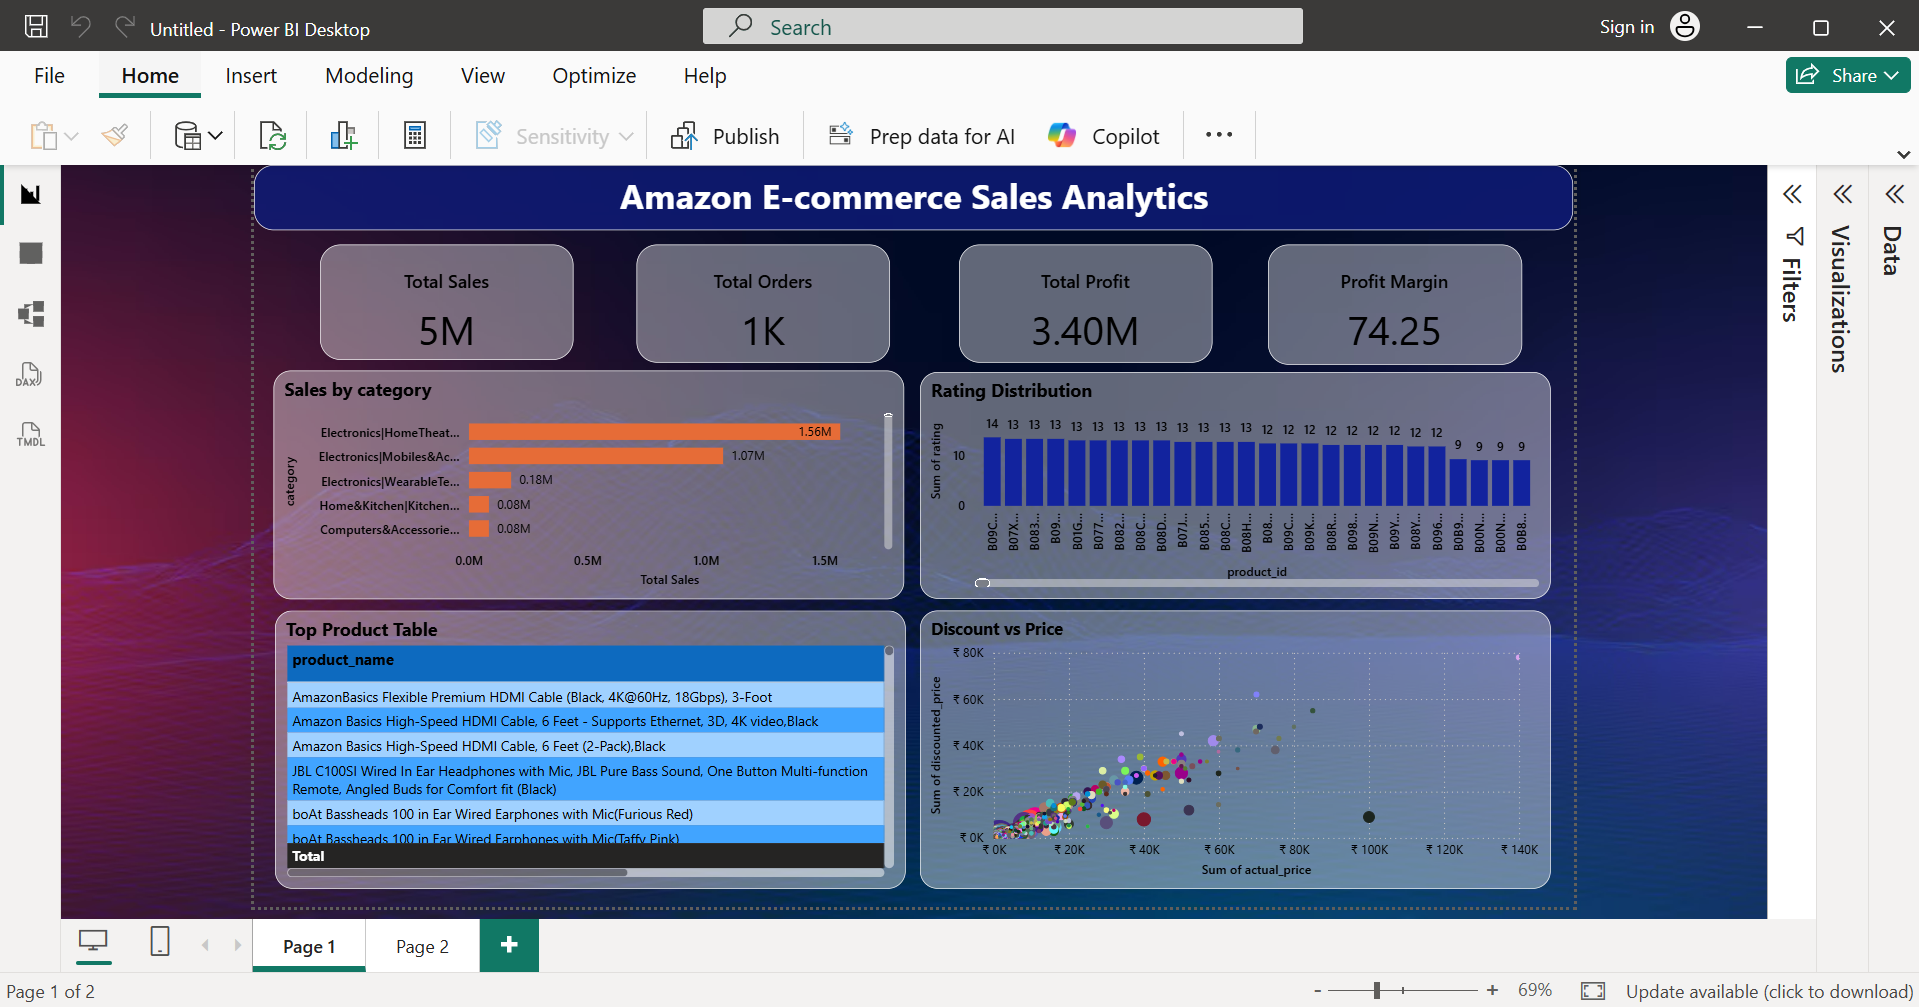

The page's visual inventory and layout, read from the dashboard file:
{"tool":"powerbi","page":{"name":"Page 1","canvas":[1280,720],"ordinal":0},"visuals":[{"type":"textbox","title":"Amazon E-commerce Sales Analytics","box":[0,0,1280,63.3],"z":0},{"type":"cardVisual","fields":{"Data":["Amazon.Total Profit"]},"box":[683.8,77.3,246.1,115],"z":1000},{"type":"clusteredBarChart","title":"Sales by category","fields":{"Category":["Amazon.category"],"Y":["Amazon.Total Sales"]},"box":[19.4,199.2,612.1,221.8],"z":2000},{"type":"clusteredColumnChart","title":"Rating Distribution","fields":{"Y":["Sum(Amazon.rating)"],"Category":["Amazon.product_id"]},"box":[646.1,200.8,612.1,220.2],"z":3000},{"type":"tableEx","title":"Top Product Table","fields":{"Values":["Amazon.product_name","Sum(Amazon.discounted_price)","Sum(Amazon.rating)","Sum(Amazon.rating_count)"]},"box":[20,431.7,611.7,270],"z":4000},{"type":"scatterChart","title":"Discount vs Price","fields":{"X":["Sum(Amazon.actual_price)"],"Y":["Sum(Amazon.discounted_price)"],"Size":["Sum(Amazon.rating_count)"],"Category":["Amazon.product_name"]},"box":[646.7,431.7,611.7,270],"z":5000},{"type":"cardVisual","fields":{"Data":["Amazon.Profit Margin"]},"box":[983.3,76.7,246.7,116.7],"z":7000},{"type":"cardVisual","fields":{"Data":["Amazon.Total Orders"]},"box":[371.3,77.3,246.1,115],"z":8000},{"type":"cardVisual","fields":{"Data":["Amazon.Total Sales"]},"box":[63.6,77.3,246.1,111.7],"z":9000}]}

Visuals, with their boxes in screenshot pixels (x1, y1, x2, y2):
"Amazon E-commerce Sales Analytics" textbox: l=25, t=0, r=1795, b=38
cardVisual - Amazon.Total Profit: l=970, t=57, r=1311, b=216
"Sales by category" clusteredBarChart: l=52, t=225, r=898, b=532
"Rating Distribution" clusteredColumnChart: l=918, t=228, r=1765, b=532
"Top Product Table" tableEx: l=53, t=547, r=898, b=920
"Discount vs Price" scatterChart: l=919, t=547, r=1765, b=920
cardVisual - Amazon.Profit Margin: l=1385, t=56, r=1726, b=217
cardVisual - Amazon.Total Orders: l=538, t=57, r=879, b=216
cardVisual - Amazon.Total Sales: l=113, t=57, r=453, b=211
